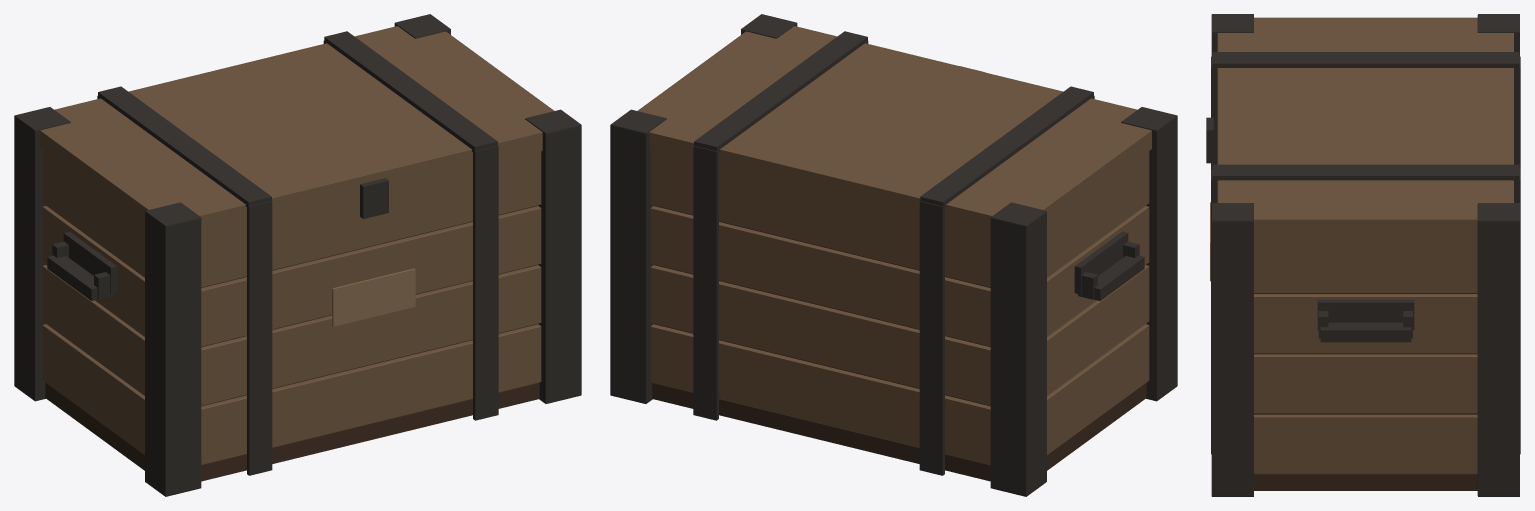
File: tr_crate.glb
3 renders of one model, left to right at view 1: azimuth 30°, elevation 25°; view 2: azimuth 150°, elevation 25°; view 3: azimuth 270°, elevation 25°, orthographic.
Parts seen in each view (by area): view 1: tr_crate; view 2: tr_crate; view 3: tr_crate.
Boxes of the visible parts, box(x1,y1,x2,y2) form: tr_crate: box(14, 14, 581, 496); tr_crate: box(610, 14, 1177, 496); tr_crate: box(1206, 14, 1520, 496).
Bounding box in the file's own units: 0.89 × 0.51 × 0.52.
